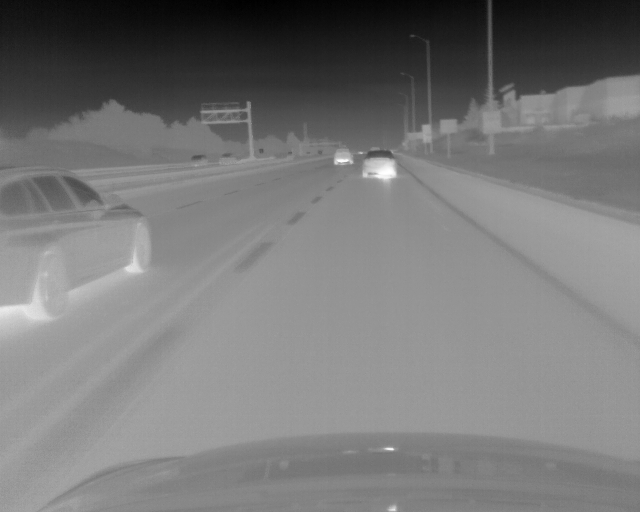car: (1, 164, 153, 324), (362, 150, 397, 178), (333, 147, 353, 166), (190, 152, 206, 165), (222, 153, 234, 158)
